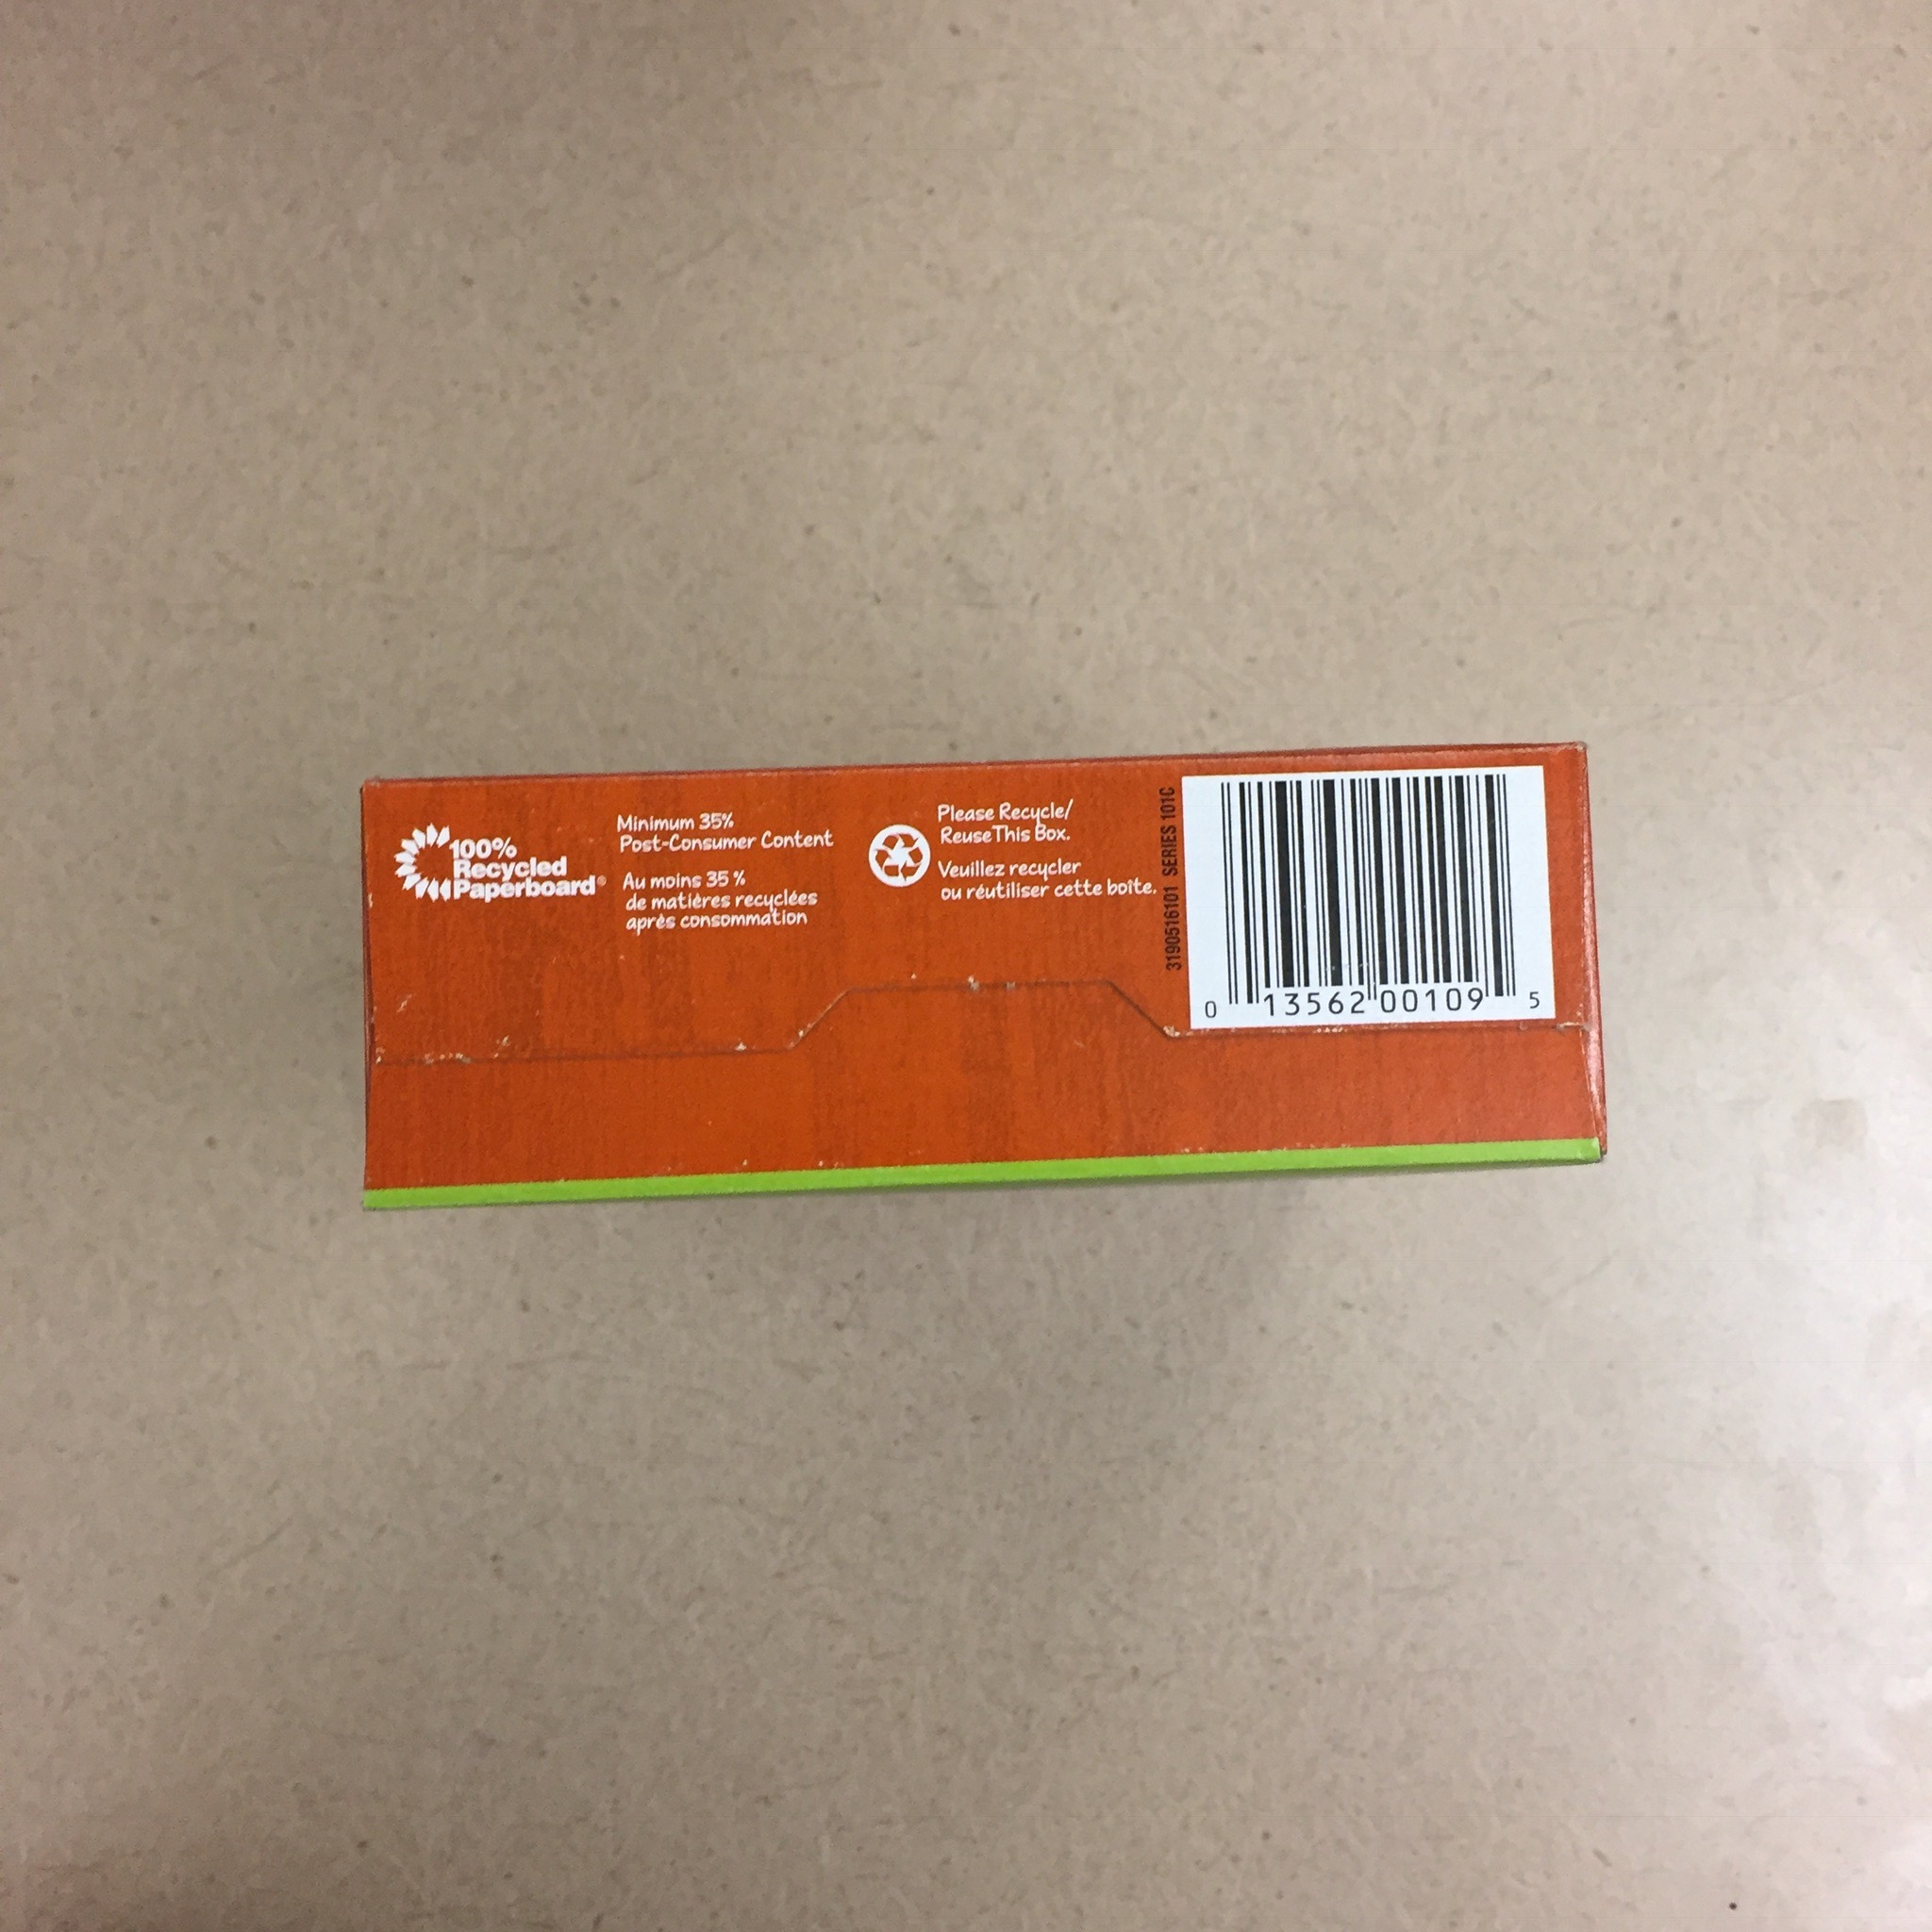annies_snickerdoodle_cinnamon_sugar: (359, 740, 1614, 1219)
